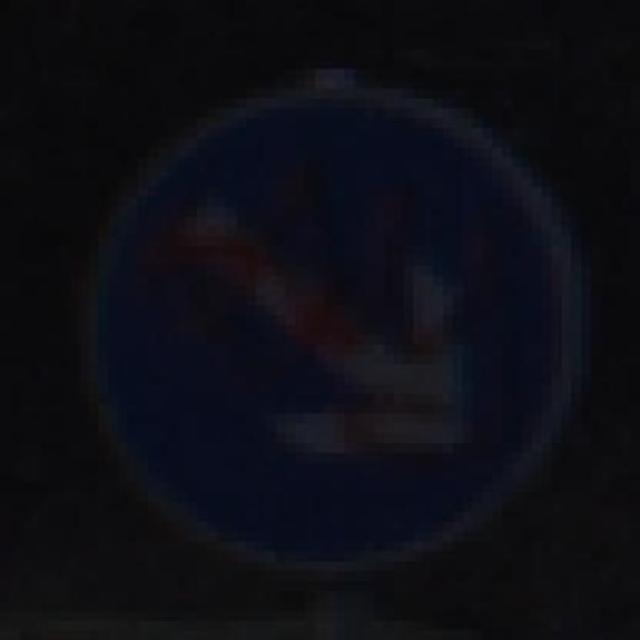Keep-Right: (39, 39, 610, 592)
